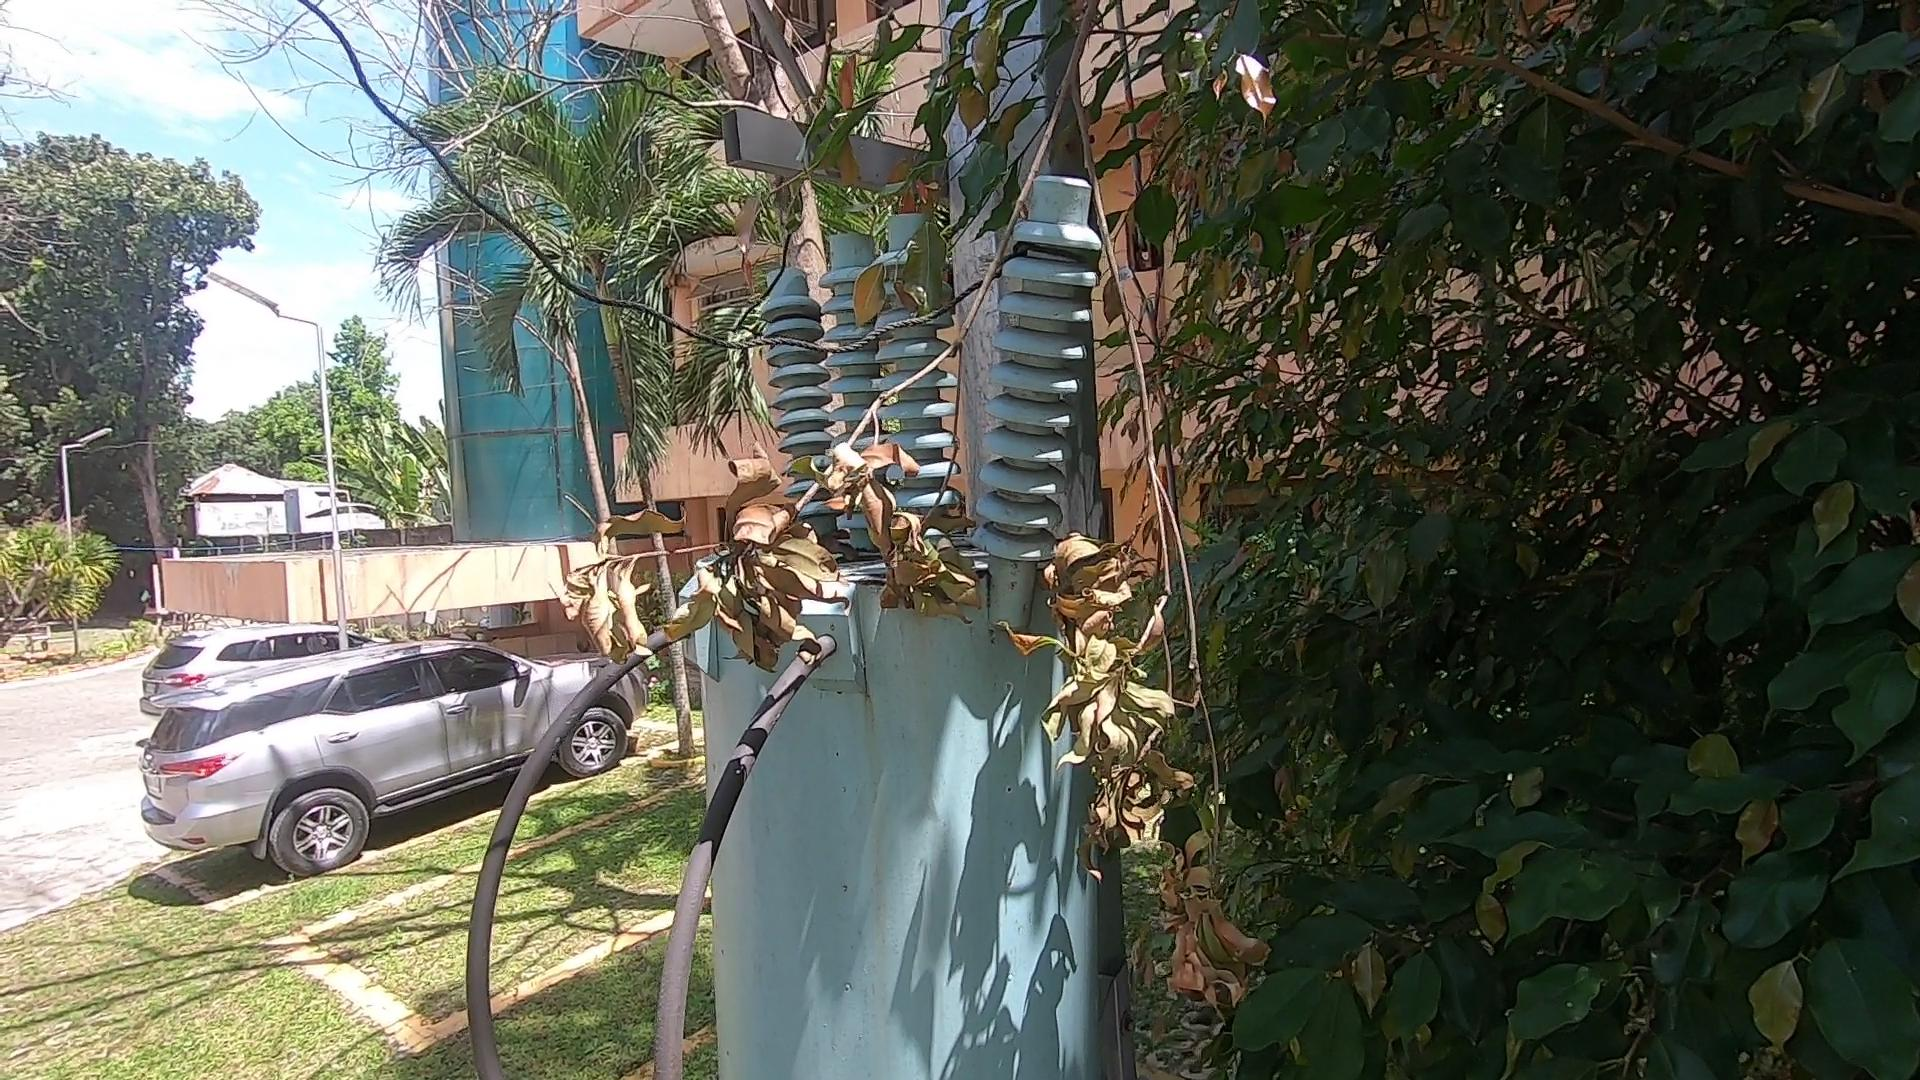branch with leaves: (498, 4, 1276, 1025)
leaf: (823, 517, 865, 571)
